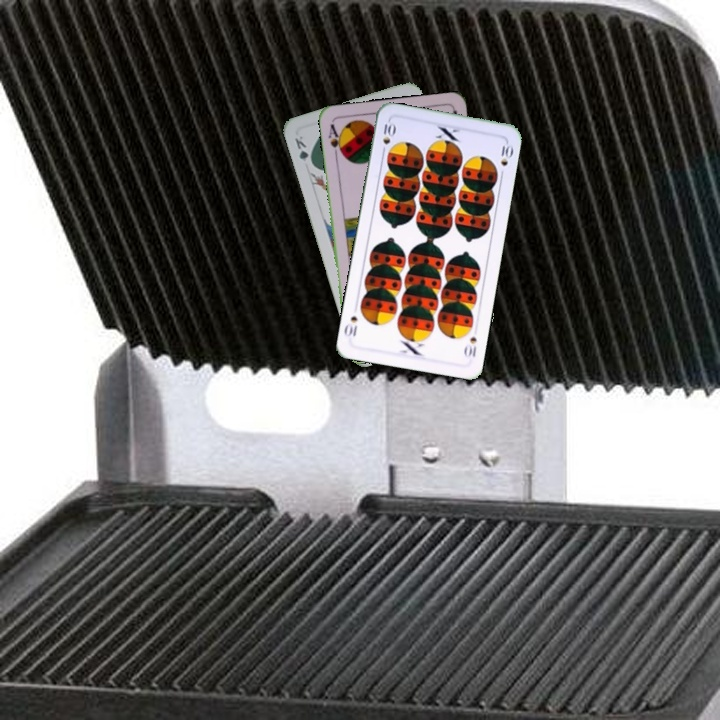GK: (291, 132, 316, 169)
S10: (378, 117, 397, 157), (460, 332, 479, 360)
SA: (324, 120, 346, 160)
